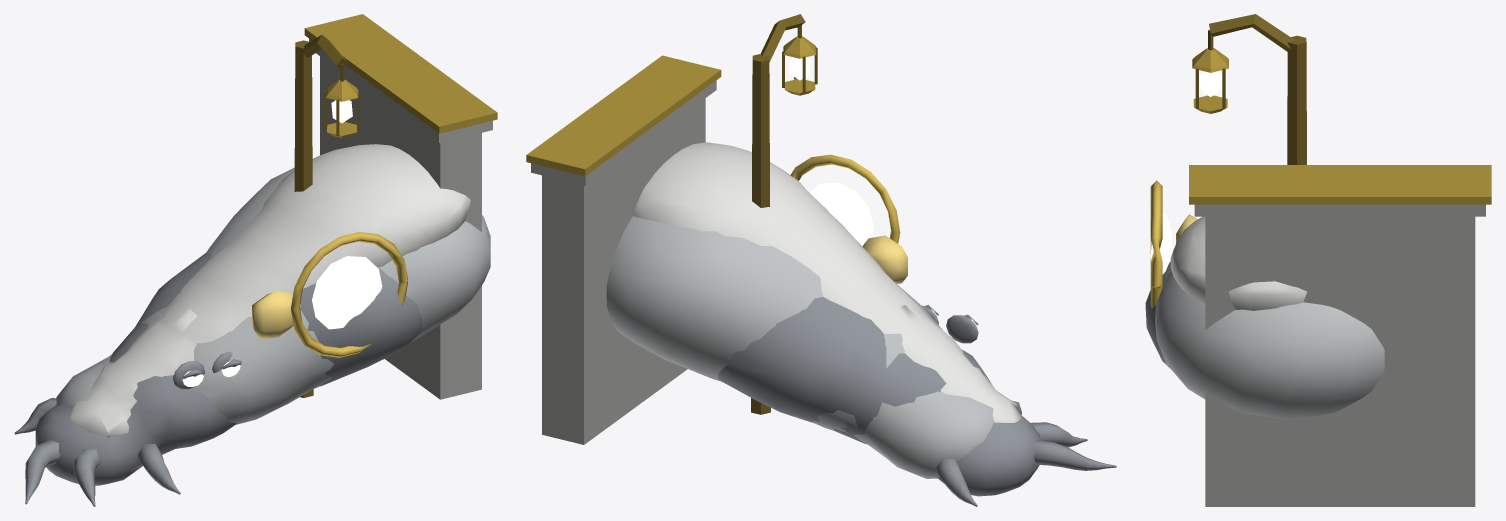
Rendered from fog-bank.glb.
3 views of the same model, side by side, from view 1: azimuth 30°, elevation 25°; view 2: azimuth 150°, elevation 25°; view 3: azimuth 270°, elevation 25° (orthographic). The views are drawn at different scales.
Visible parts, largest first — view 1: pulse_fog, fog_bank, pulse_sun, sway_edge, sway_lamp; view 2: pulse_fog, fog_bank, pulse_sun, sway_edge, sway_lamp; view 3: fog_bank, pulse_fog, sway_lamp, pulse_sun.
Boxes of the visible parts, box(x1,y1,x2,y2) form: pulse_fog: box(35, 144, 490, 485); fog_bank: box(294, 14, 497, 399); pulse_sun: box(291, 232, 407, 357); sway_edge: box(14, 398, 180, 506); sway_lamp: box(324, 63, 359, 138); pulse_fog: box(606, 142, 1041, 496); fog_bank: box(526, 14, 805, 444); pulse_sun: box(790, 154, 900, 246); sway_edge: box(935, 400, 1116, 506); sway_lamp: box(782, 25, 817, 95); fog_bank: box(1189, 14, 1491, 506); pulse_fog: box(1145, 214, 1384, 419); sway_lamp: box(1192, 30, 1228, 113); pulse_sun: box(1150, 180, 1172, 307).
Size of the model in its own units: 1.16 by 0.9166 by 0.6408.
